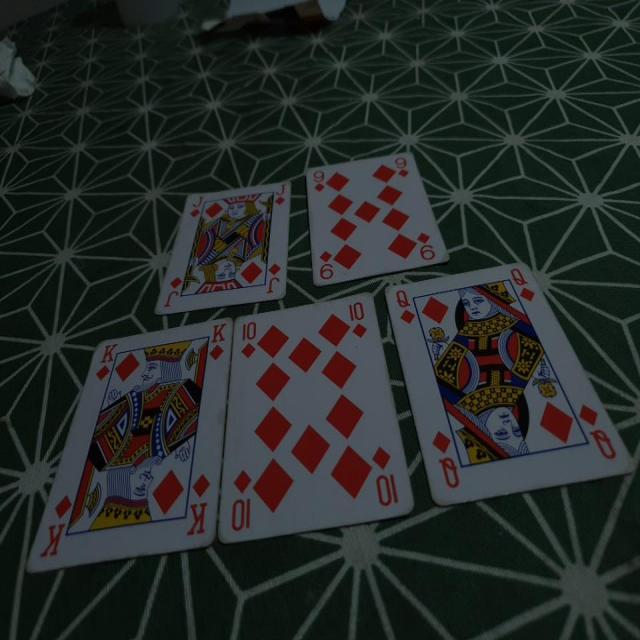10 Diamonds: (217, 289, 416, 544)
9 Diamonds: (304, 148, 450, 284)
J Diamonds: (153, 175, 294, 318)
K Diamonds: (26, 316, 236, 577)
Q Diamonds: (383, 260, 638, 507)
